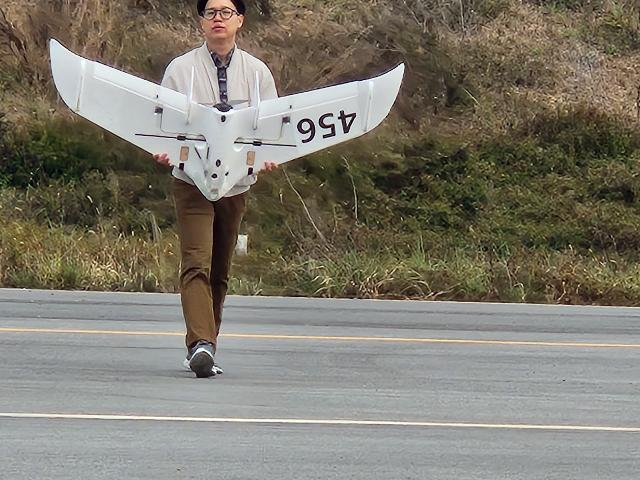Anti-Drone: (48, 38, 406, 202)
